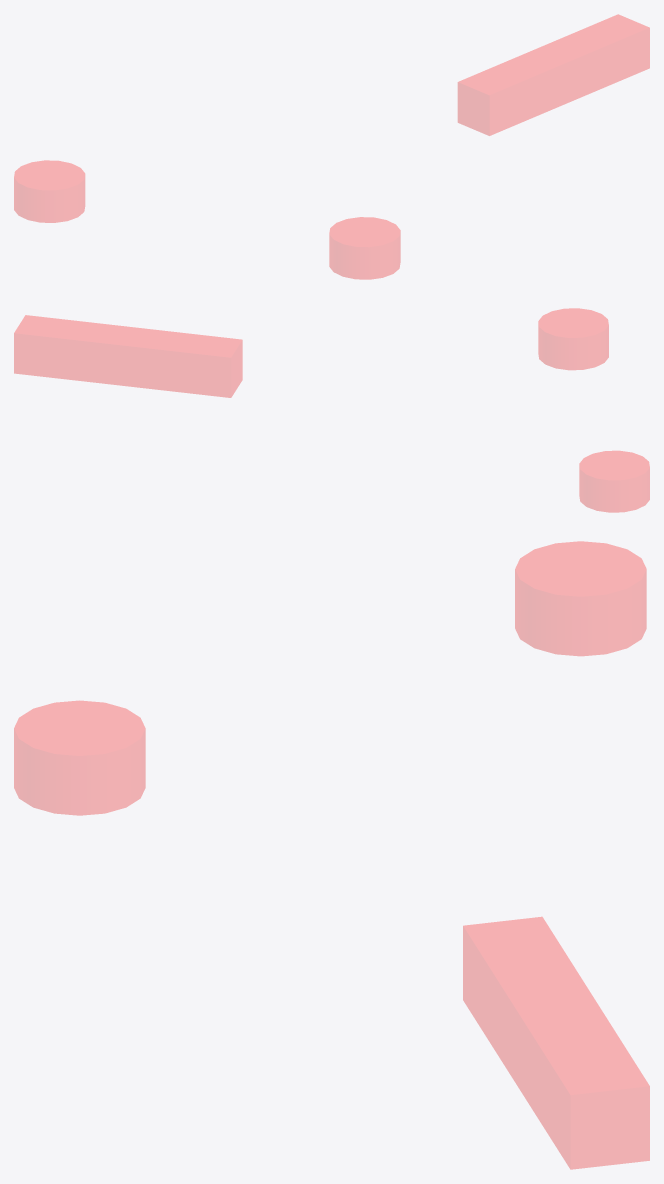
The model's file is s01b_sa1-obstacles.glb.
3 renders of one model, top to bottom at view 1: azimuth 30°, elevation 25°; view 2: azimuth 150°, elevation 25°; view 3: azimuth 270°, elevation 25°, orthographic. The views are drawn at different scales.
Parts seen in each view (by area): view 1: boulder-colonly (×3); view 2: boulder-colonly (×3); view 3: boulder-colonly (×3).
Boxes of the visible parts, x1,y1,x2,y2 form: boulder-colonly (×3): (14, 14, 649, 279); boulder-colonly (×3): (14, 308, 649, 512); boulder-colonly (×3): (14, 541, 649, 1169).
Bounding box in the file's own units: 32.3 × 2 × 15.46.
